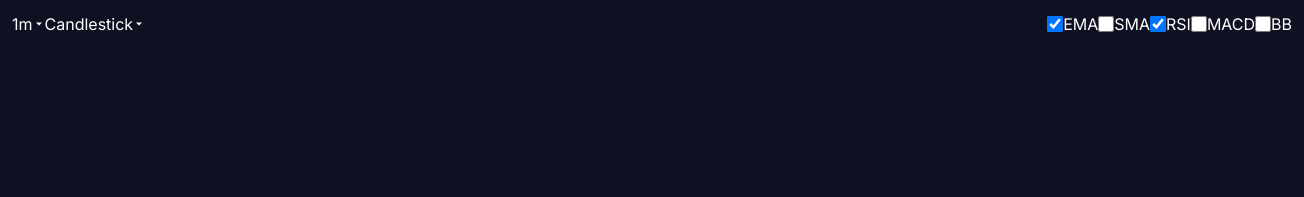
Test: ChartToolbar › shows all available timeframes
Click the button named "timeframe" at (28, 24), box [12,12,44,36]
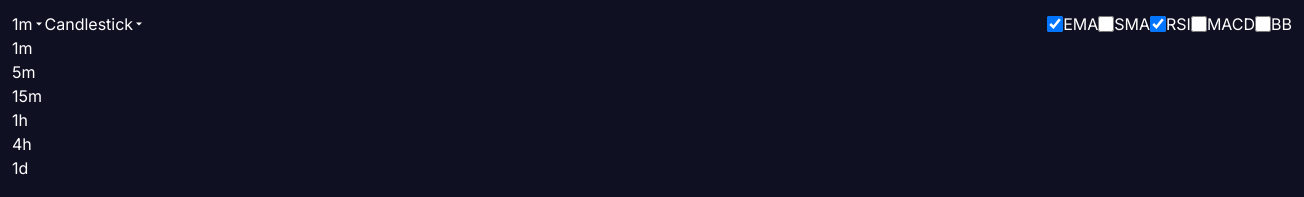
Check: the button "5m" is shown, box [12,60,132,84]
Check: the button "15m" is shown, box [12,84,132,108]
Check: the button "1h" is shown, box [12,108,132,132]
